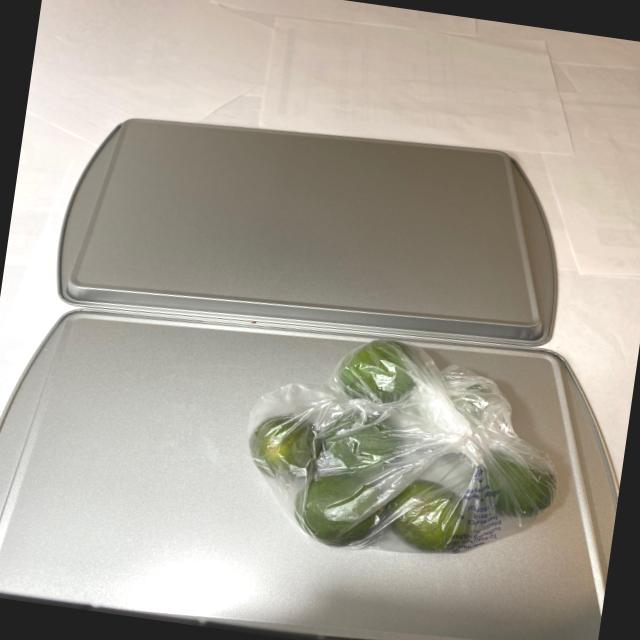lemon: (238, 325, 574, 578)
